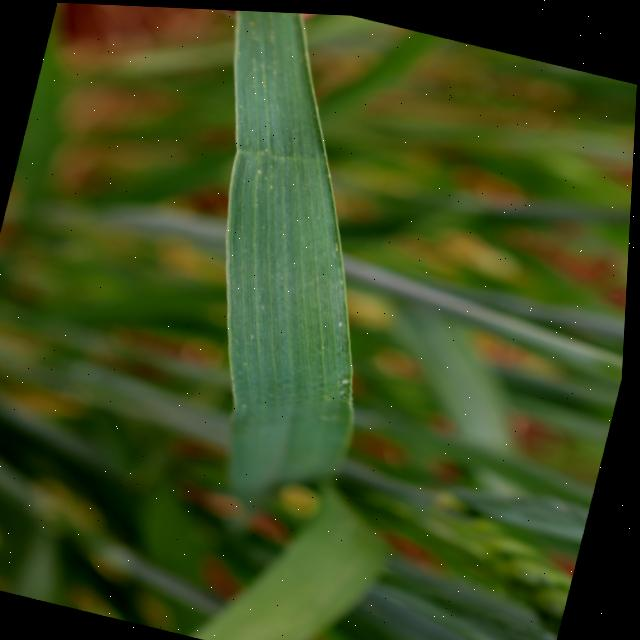healthy_wheat: (104, 4, 465, 529), (371, 243, 631, 501), (318, 448, 597, 640), (440, 58, 638, 277), (0, 445, 214, 632), (193, 478, 408, 640)
